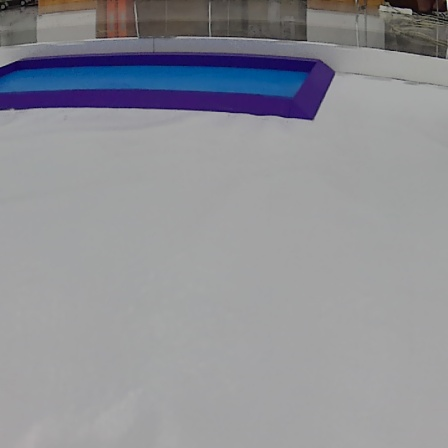blue_aim: (2, 55, 339, 129)
